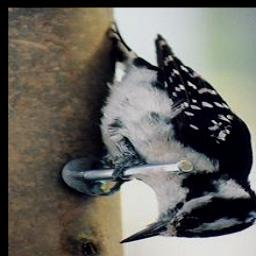Woodpecker: (88, 21, 256, 244)
